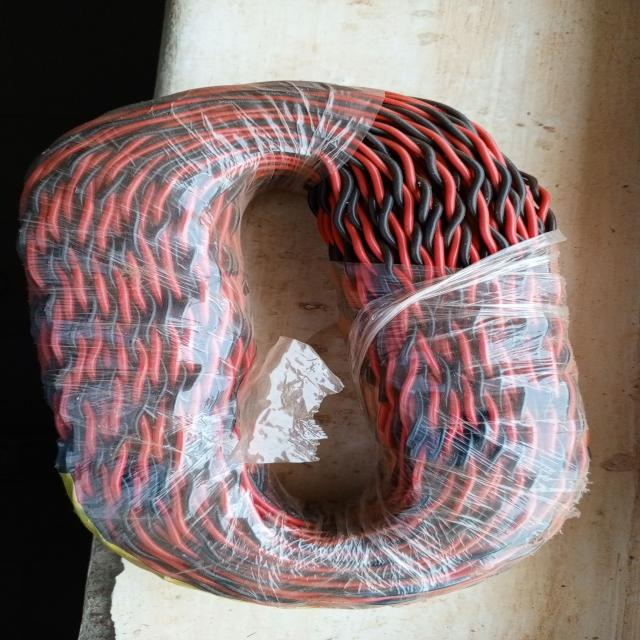Connecting Wires: (4, 80, 597, 608)
